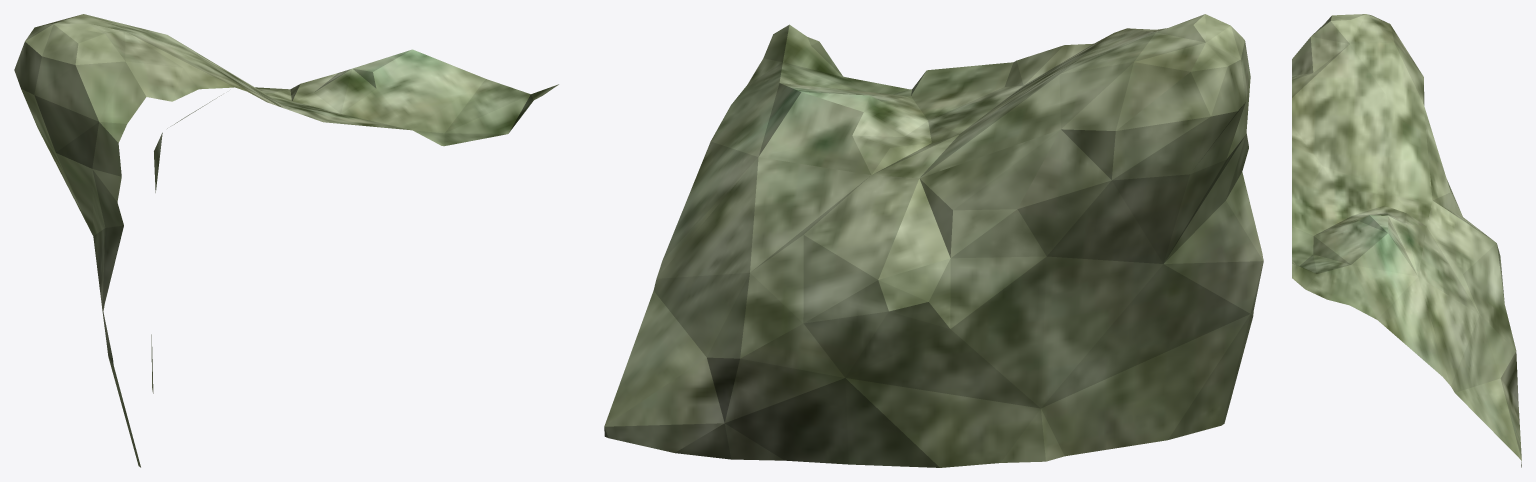
3 views of the same model, side by side, from view 1: azimuth 30°, elevation 25°; view 2: azimuth 150°, elevation 25°; view 3: azimuth 270°, elevation 25° (orthographic). The views are drawn at different scales.
Size of the model in its own units: 1.66 by 1.32 by 0.9328.
Materials: 1 (1 with a texture image).
